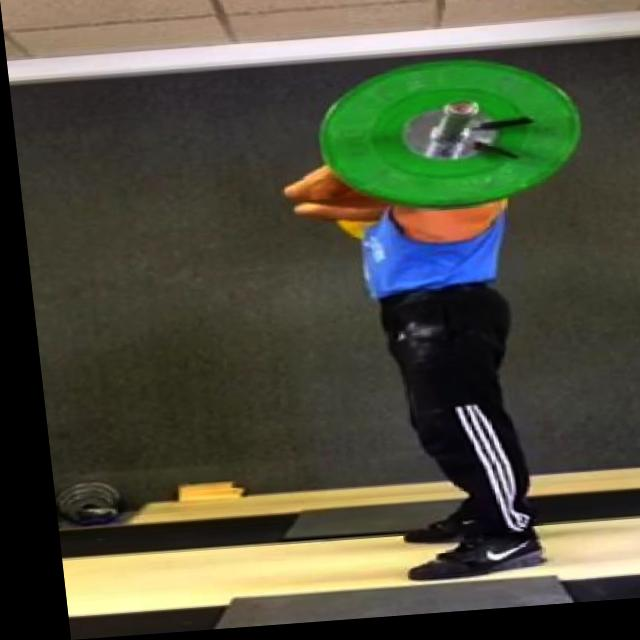barbell: (304, 54, 585, 228)
